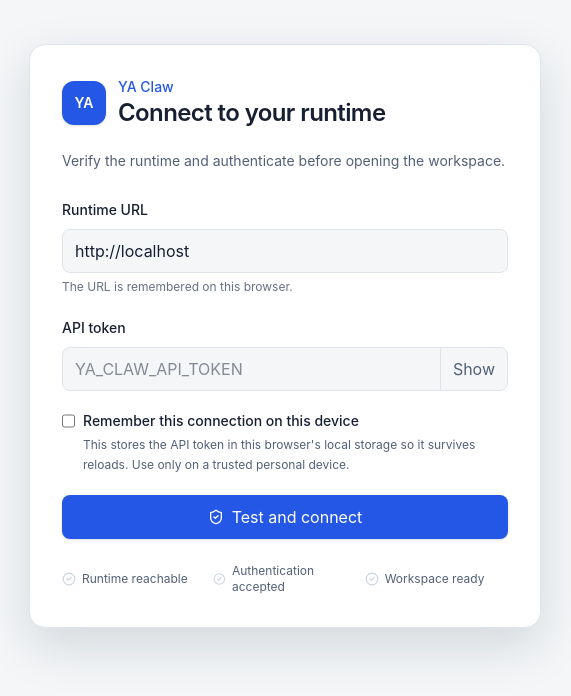
App MSW integration safety net › keeps an invalid credential in the connection gate
Step 1. Type "integration-test-token" into the password field labelled "API token" → (251, 369), box [63,348,440,390]
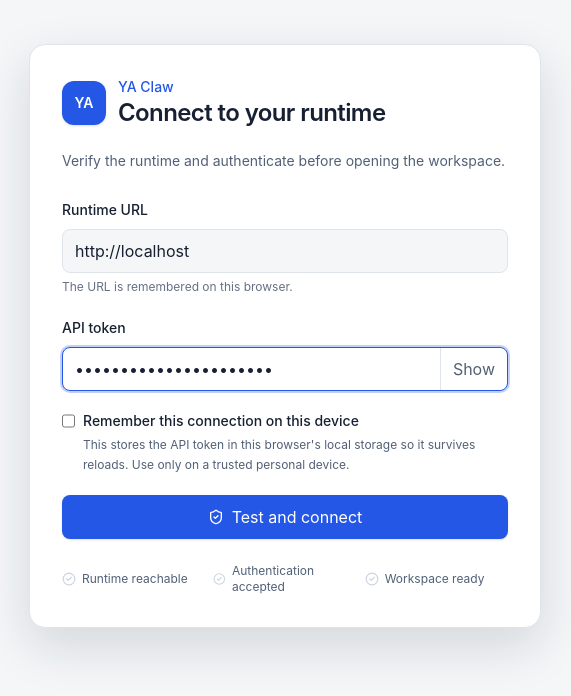
Step 2. Click the button "Test and connect" → (285, 517), box [62,495,508,539]
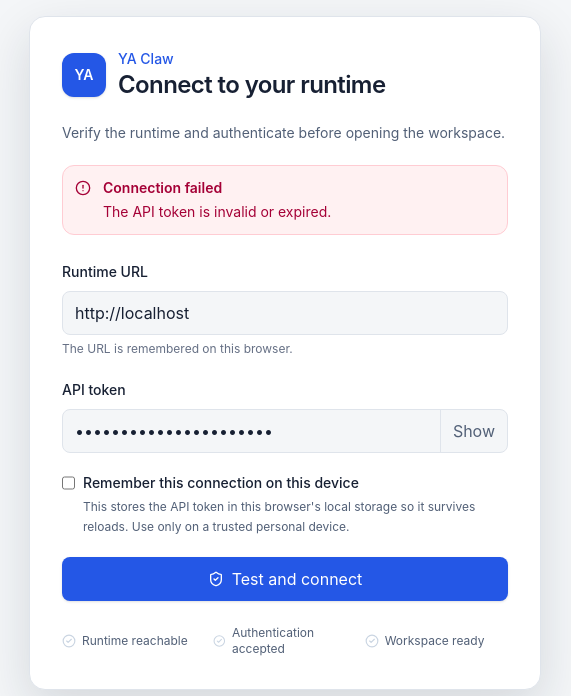
Expected: the heading "Connect to your runtime" is shown, [118,69,386,101]
Now the message shows "The API token is invalid or expired", box [103,203,331,220]
